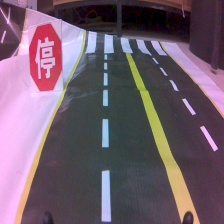stop: (28, 18, 65, 92)
